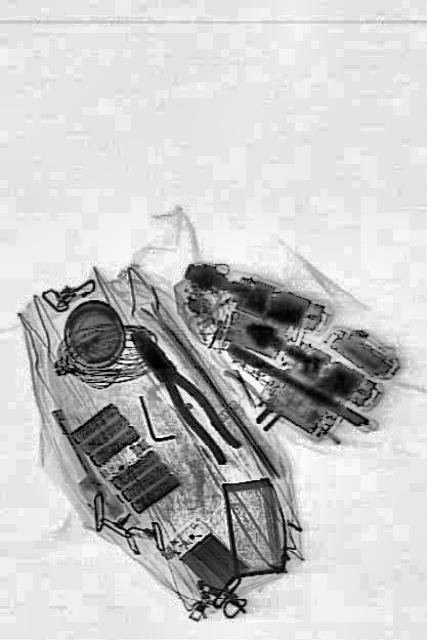Pliers: (121, 315, 241, 469)
